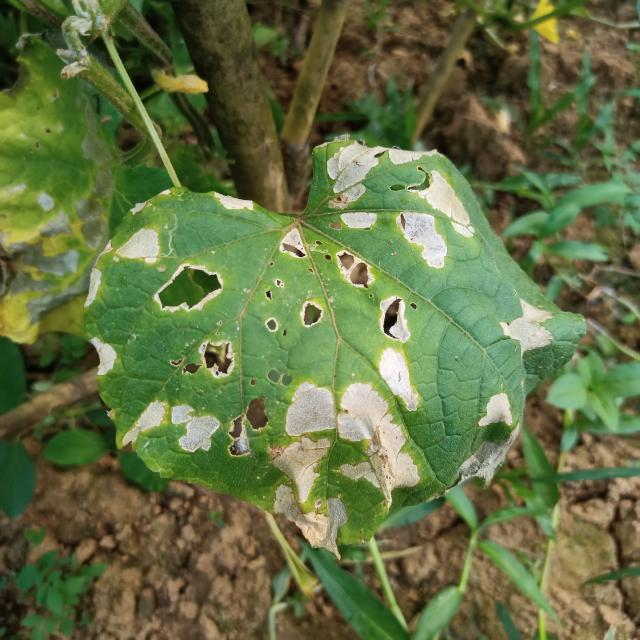disease_cucumber: (84, 147, 556, 550)
